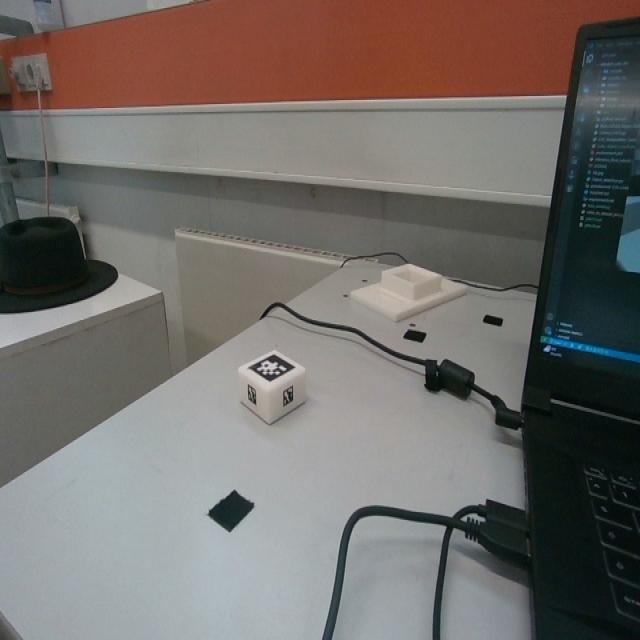Cube: (236, 345, 307, 424)
